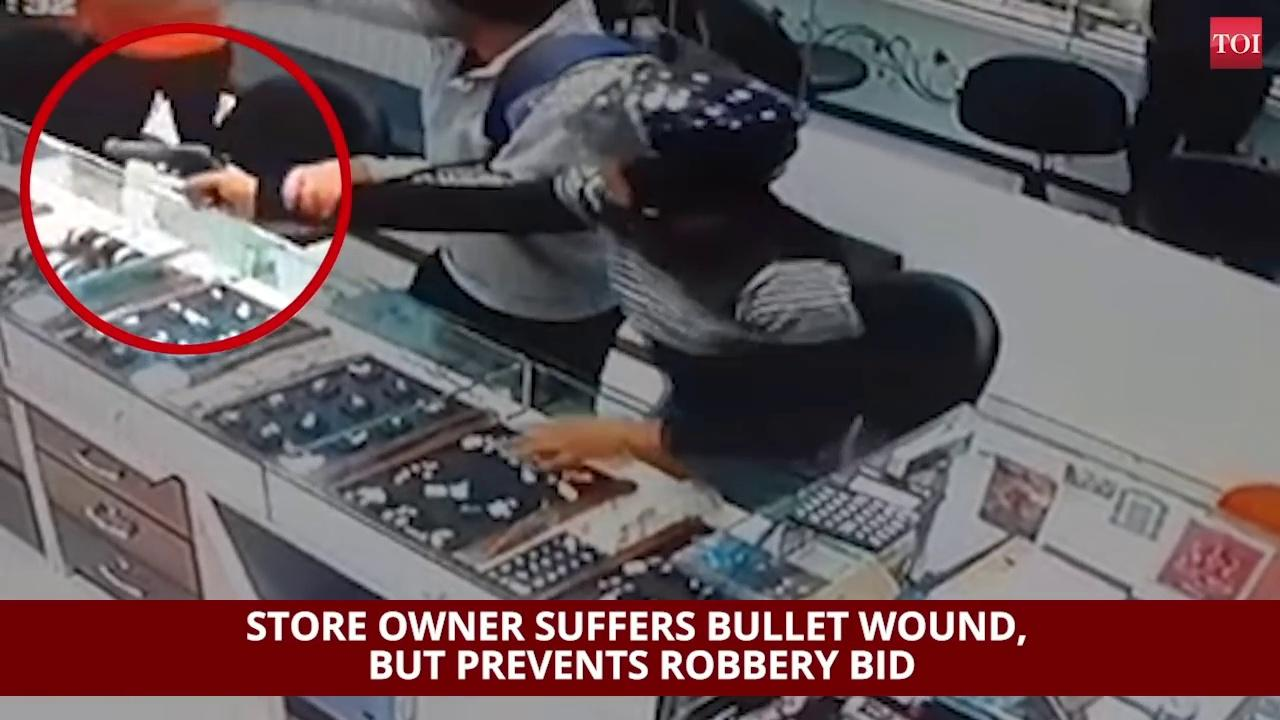weapon: (97, 133, 224, 197)
